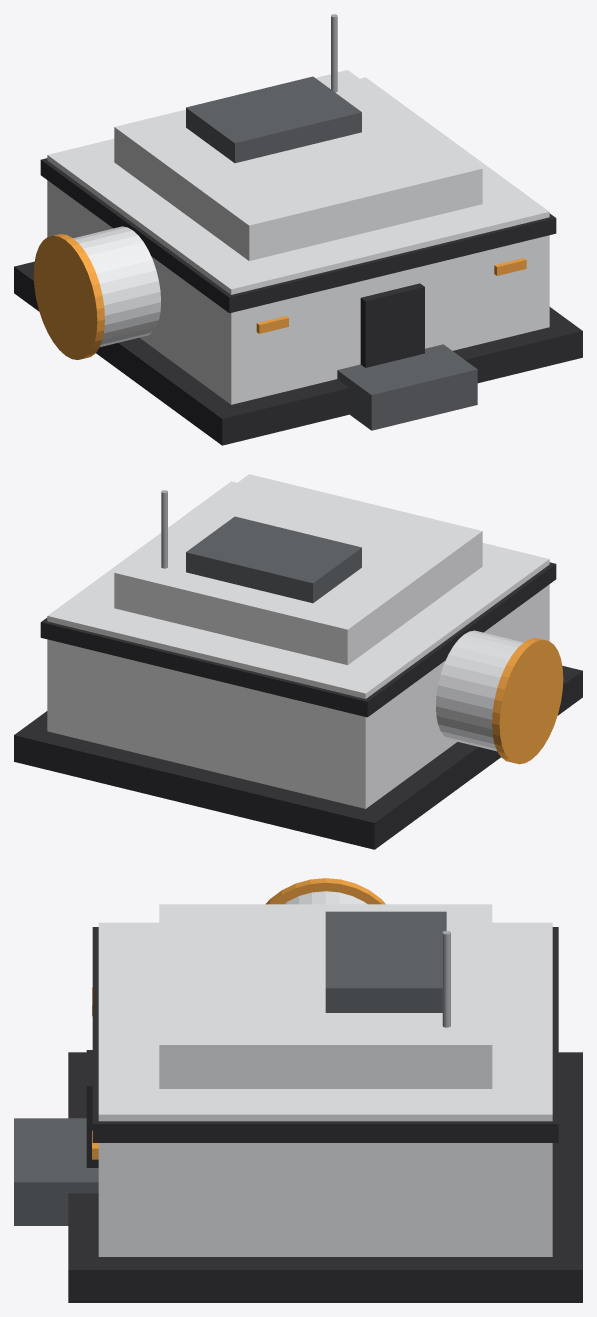
File: SM_OPS1_OperationsUnit.glb
3 renders of one model, top to bottom at view 1: azimuth 30°, elevation 25°; view 2: azimuth 150°, elevation 25°; view 3: azimuth 270°, elevation 25°, orthographic. The views are drawn at different scales.
Parts seen in each view (by area): view 1: SM_OPS1_OperationsUnit; view 2: SM_OPS1_OperationsUnit; view 3: SM_OPS1_OperationsUnit.
Part boxes in pixels (x1,y1,x2,y2): SM_OPS1_OperationsUnit: [14, 14, 582, 445]; SM_OPS1_OperationsUnit: [14, 474, 582, 849]; SM_OPS1_OperationsUnit: [14, 878, 582, 1302].
Bounding box in the file's own units: 9.74 × 5.7 × 9.4.
